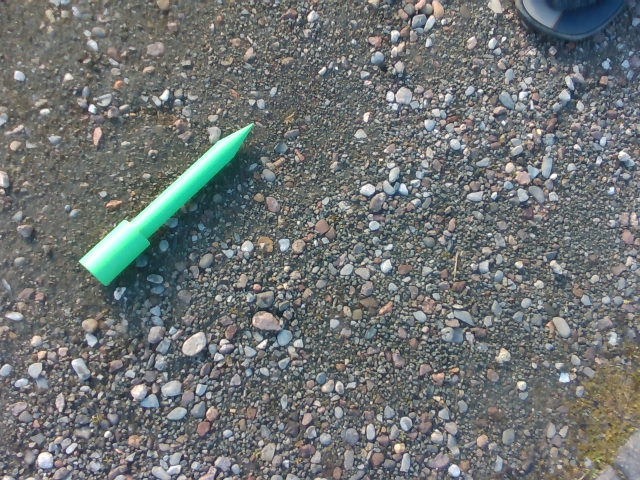Probe: (74, 115, 258, 292)
